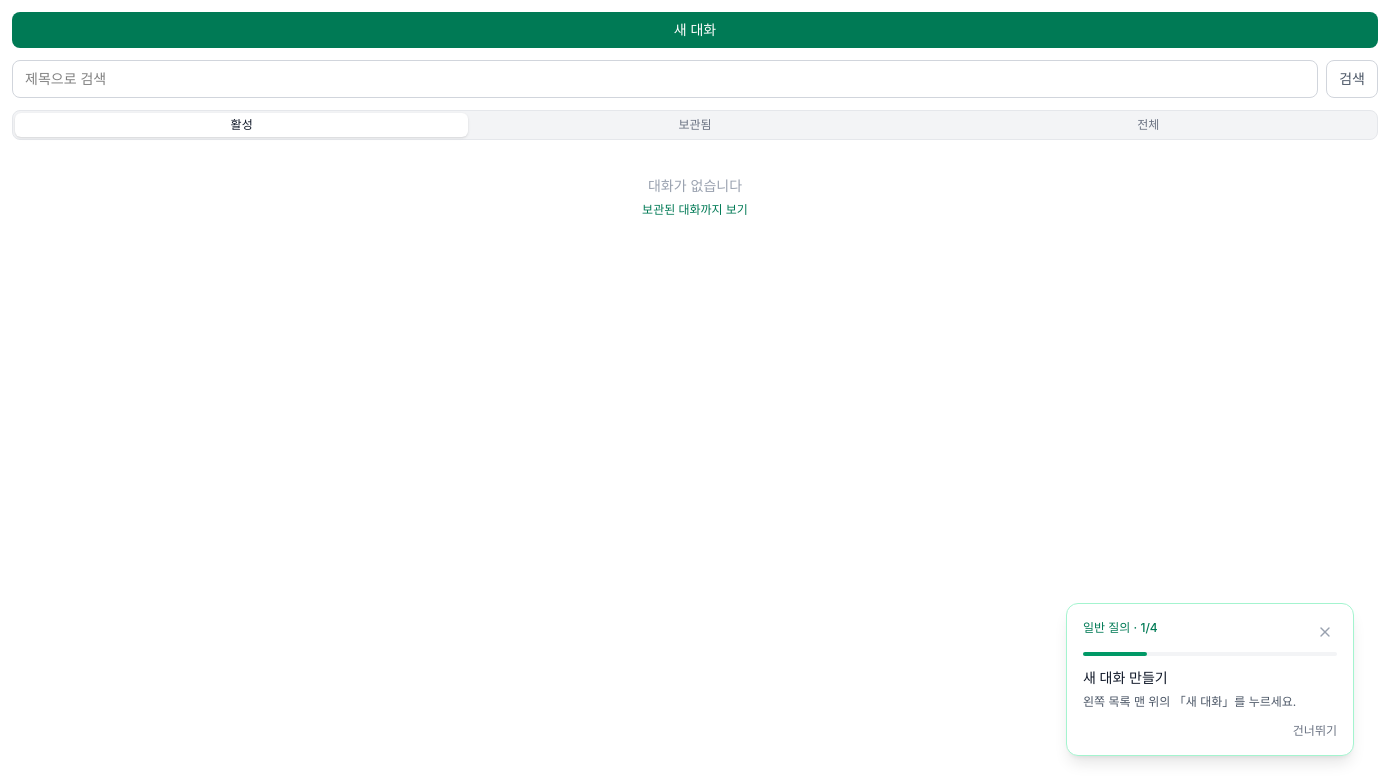
Scenario: 「새 대화」가 첫 단계를 넘긴다 › 만들고 나면 안내가 예시 질의문 단계로 옮겨간다
Click the button "새 대화". click: x=695, y=30
box: x1=12 y1=12 x2=1378 y2=48
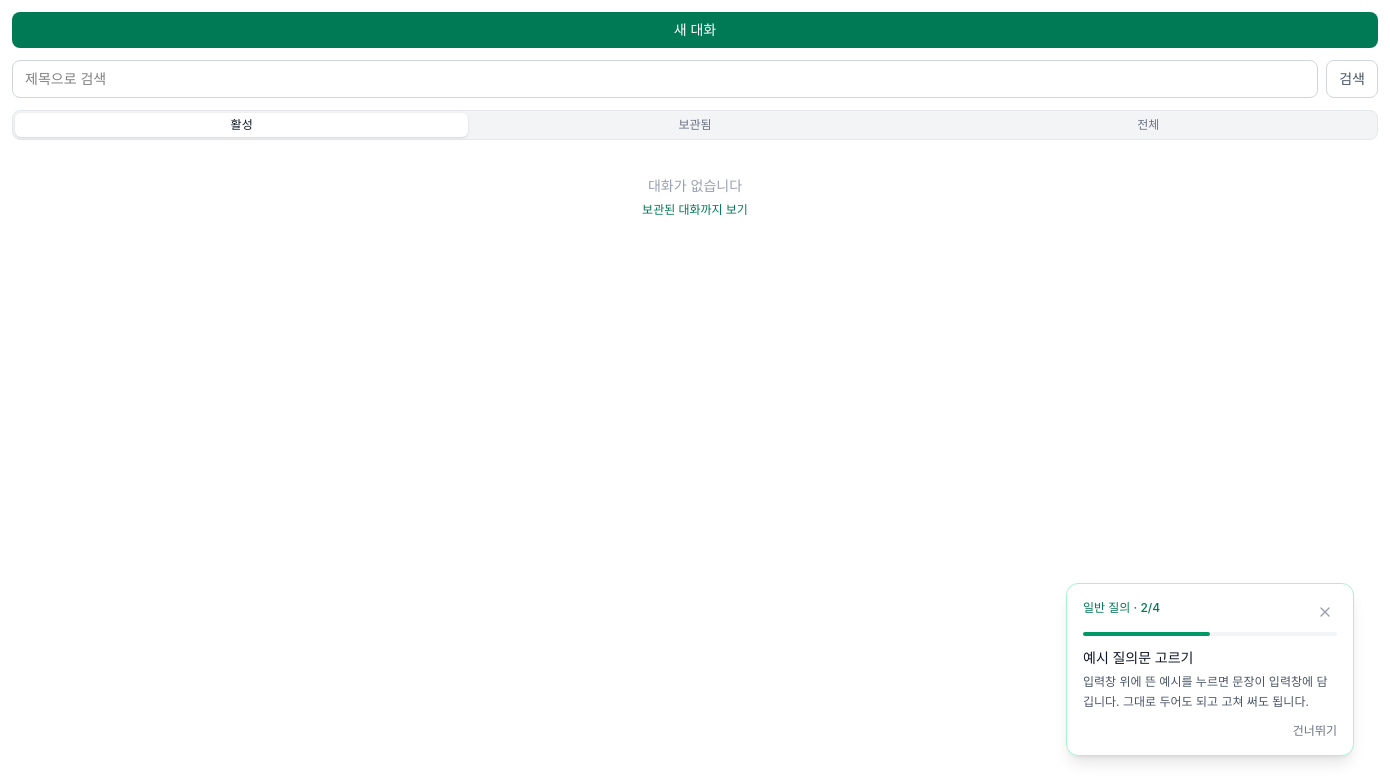
Check: the text "예시 질의문 고르기" is shown, box x1=1083 y1=649 x2=1194 y2=666
